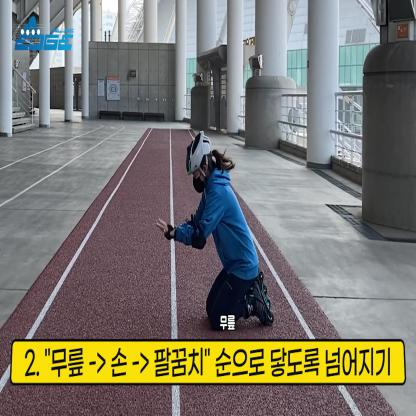Fall_Down: (153, 139, 272, 326)
